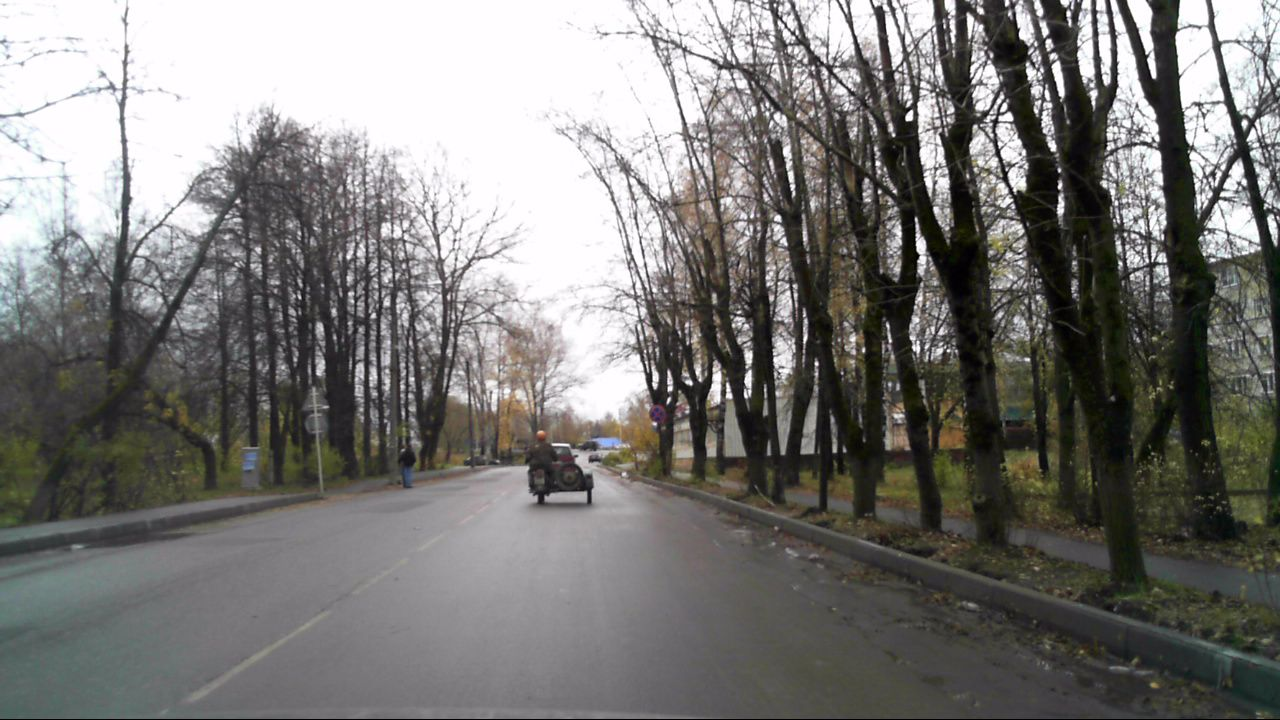No Parking: (647, 402, 668, 424)
